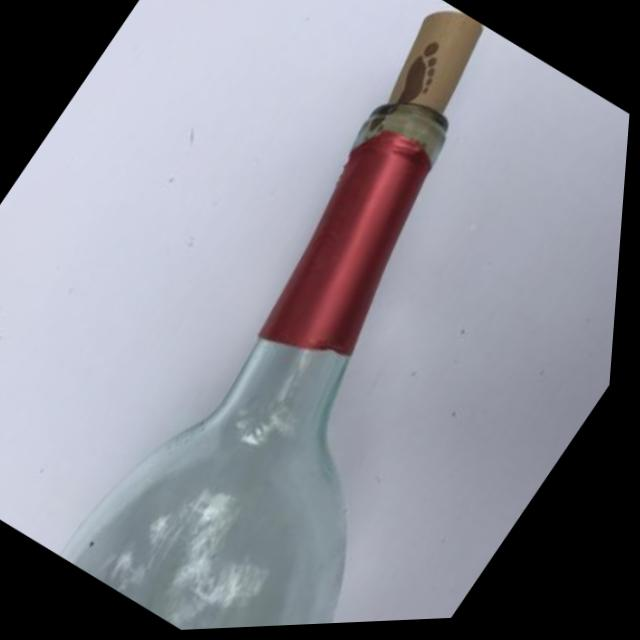glass: (9, 0, 640, 638)
